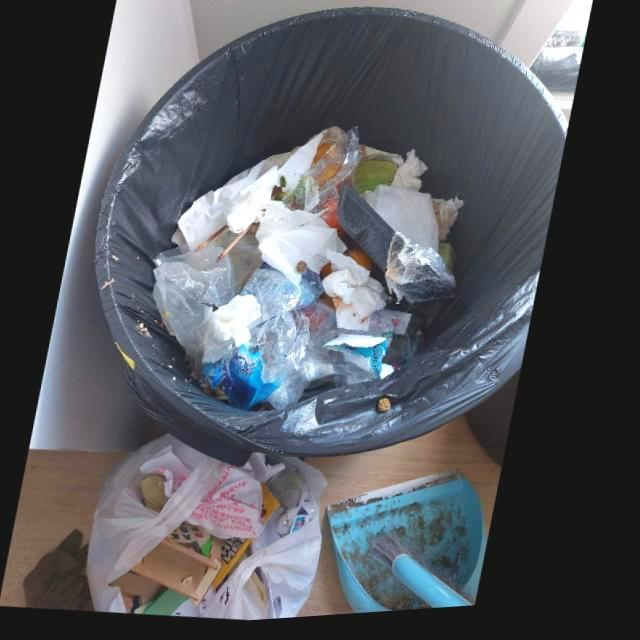paper: (181, 131, 347, 246), (259, 203, 352, 292), (195, 467, 273, 543), (364, 189, 443, 258), (326, 256, 393, 336), (208, 298, 266, 365), (226, 169, 280, 236), (394, 154, 432, 197), (175, 524, 219, 550)
plastic_bag: (157, 235, 267, 376), (249, 303, 389, 413), (390, 237, 461, 309)
